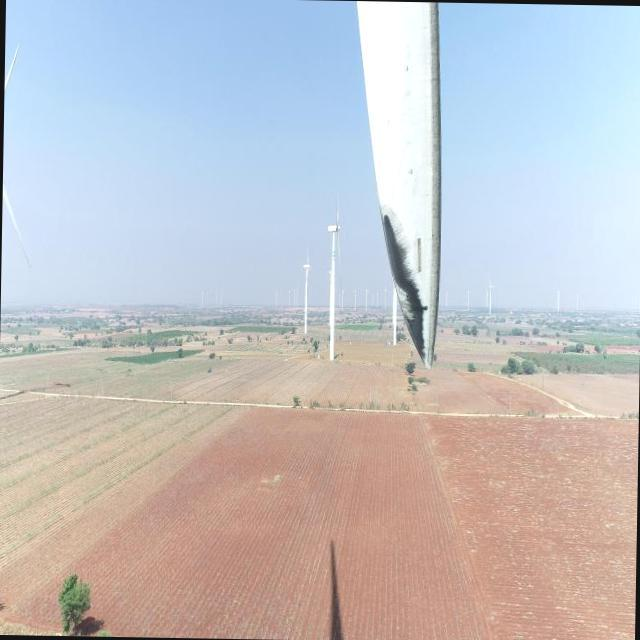Oil LEAKAGE: (381, 215, 430, 359)
Pin Hole: (415, 304, 430, 318)
